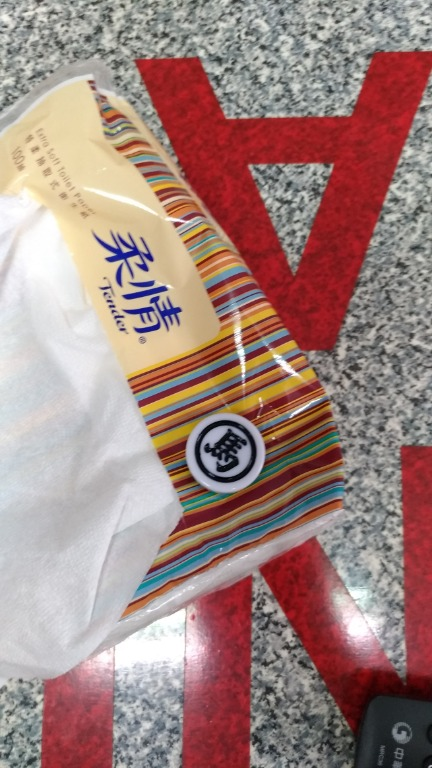b-knight: (178, 400, 293, 504)
